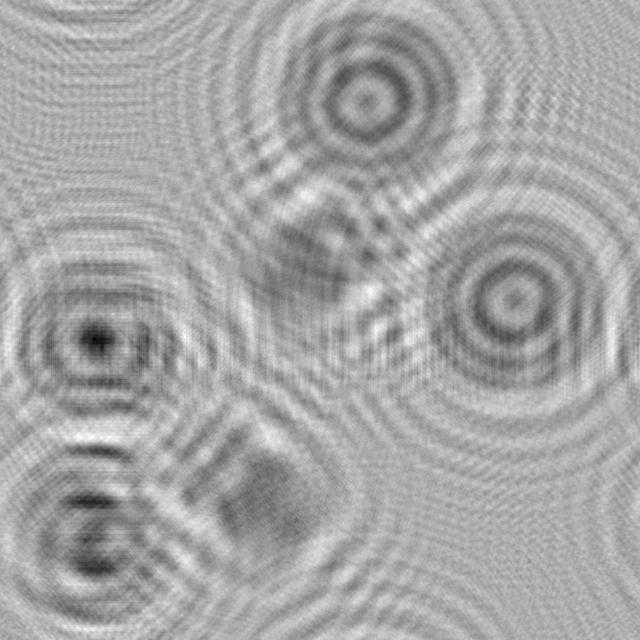P: (0, 200, 234, 450)
Q: (385, 158, 640, 436), (237, 0, 515, 214)
S: (0, 408, 221, 640)
T: (117, 353, 373, 612), (191, 151, 439, 381)
